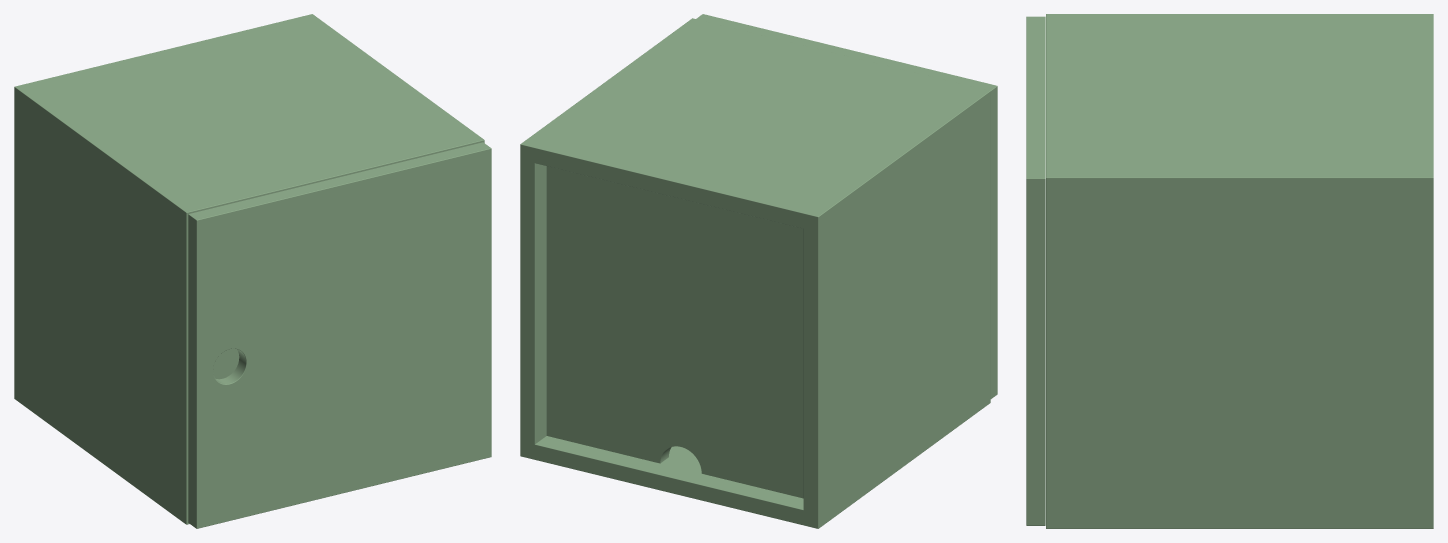
The model's file is MOD-1X1-D-B-IZQ-AP-SA.glb.
The picture shows the model from 3 angles, left to right: view 1: azimuth 30°, elevation 25°; view 2: azimuth 150°, elevation 25°; view 3: azimuth 270°, elevation 25°; orthographic projection. The views are drawn at different scales.
Bounding box in the file's own units: 360 × 360 × 378.
